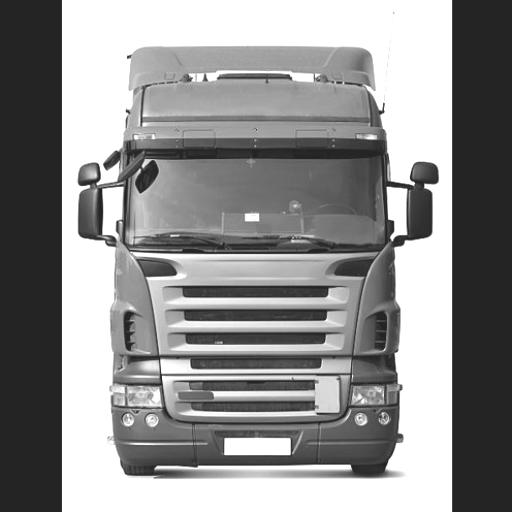truck: (73, 10, 441, 480)
